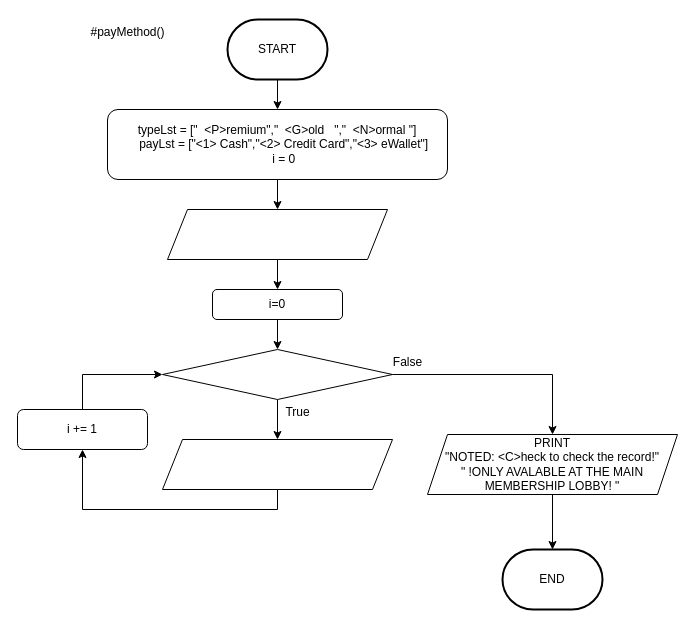
Image size: 695x627. Some labels were removed from this diagram. The box of each missing label's shape, as (x1, y1, x2, y2) in pixels:
i < len(typeLst and payLst): (162, 348, 392, 400)
PRINT " Types \t\t Payment Methods": (166, 208, 388, 260)
PRINT "%s \t\t %-10s"%(typeLst[i],payLst[i]): (162, 438, 392, 490)
